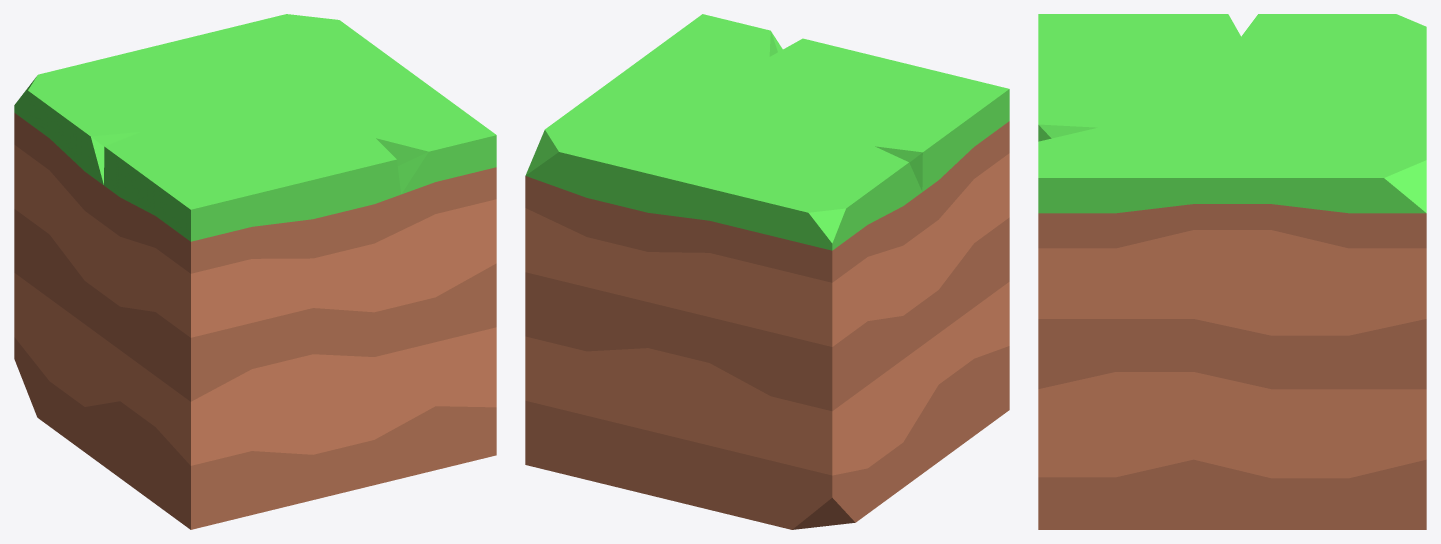
The model's file is Stone003.fbx.
3 renders of one model, left to right at view 1: azimuth 30°, elevation 25°; view 2: azimuth 150°, elevation 25°; view 3: azimuth 270°, elevation 25°, orthographic. The views are drawn at different scales.
Visible parts, largest first — view 1: Stone003; view 2: Stone003; view 3: Stone003.
Part boxes in pixels (left/top/right/bottom): Stone003: left=14, top=14, right=496, bottom=529; Stone003: left=525, top=14, right=1009, bottom=529; Stone003: left=1038, top=14, right=1426, bottom=529.
Bounding box in the file's own units: 156 × 156 × 156.
